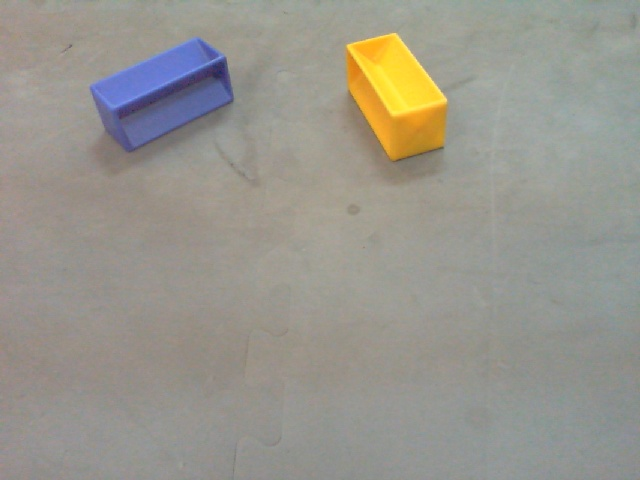BlueSample: (85, 35, 237, 157)
YellowSample: (344, 32, 450, 163)
